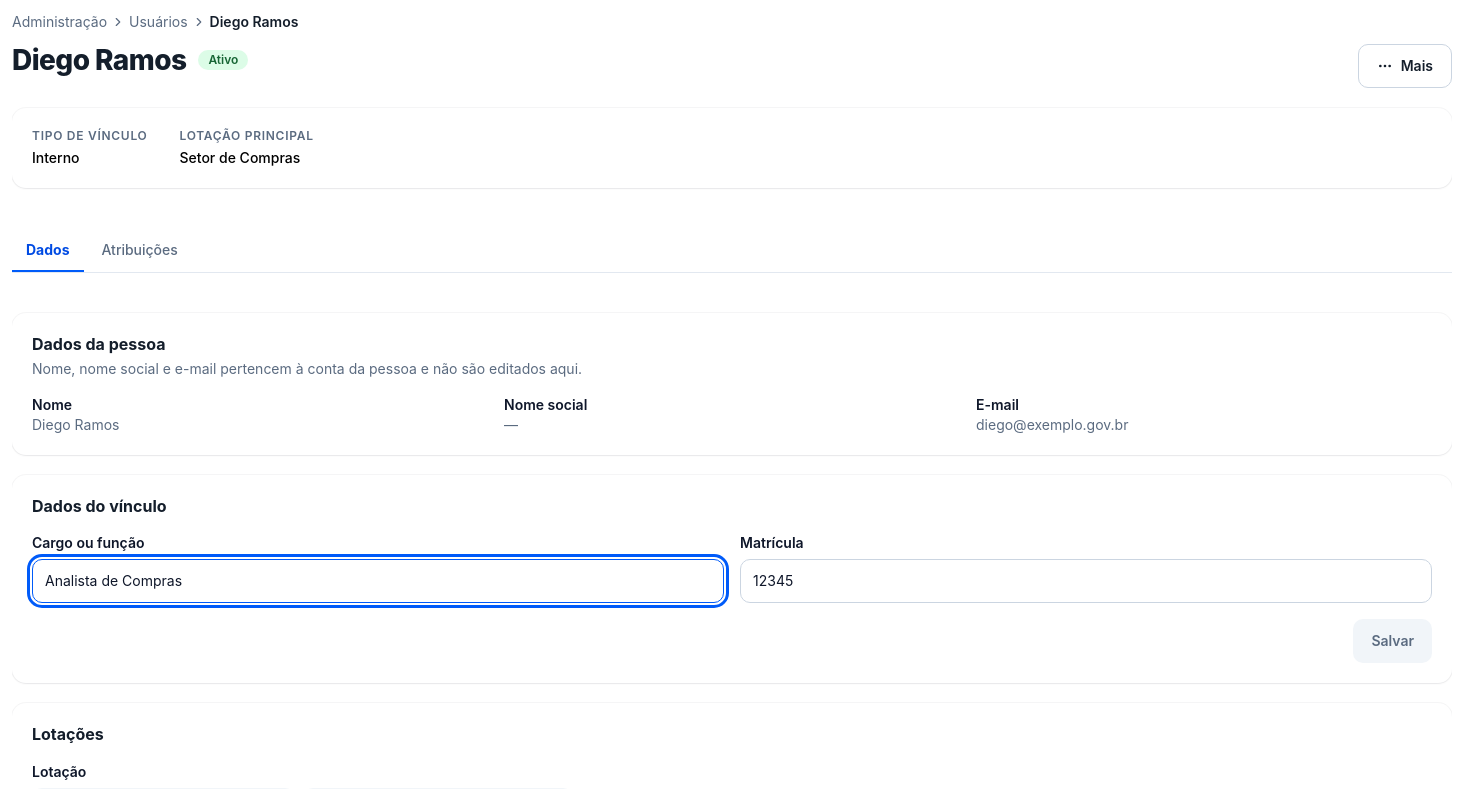
Test: SCR-029 · detalhe do usuário (US-092) › [Validação] 422 da API aparece no campo
This screenshot has width=1464, height=789.
Type "9" into the field labelled "Matrícula" at (1086, 581), box [740,559,1432,603]
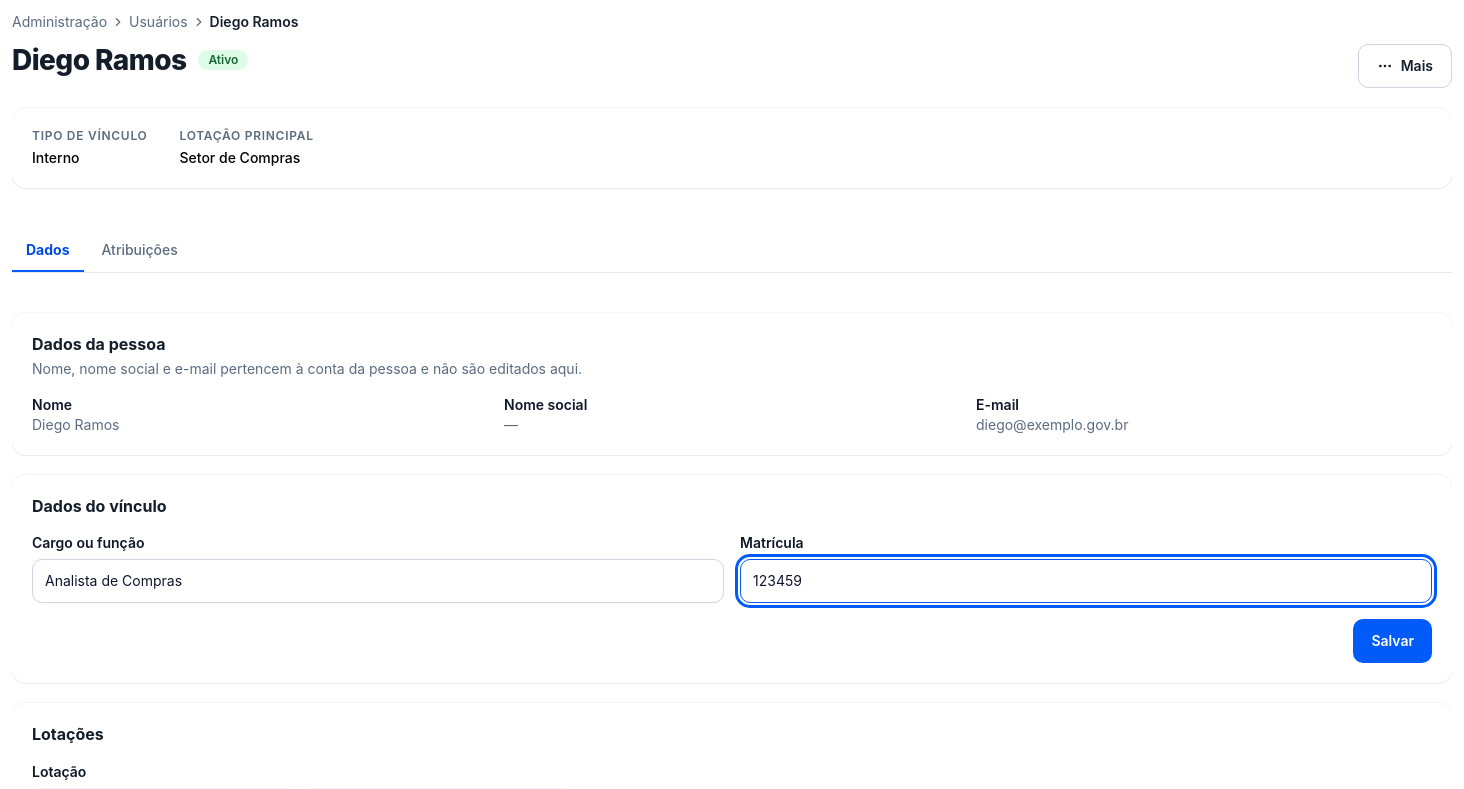
Click the button "Salvar" at (1393, 641), box [1353,619,1432,663]
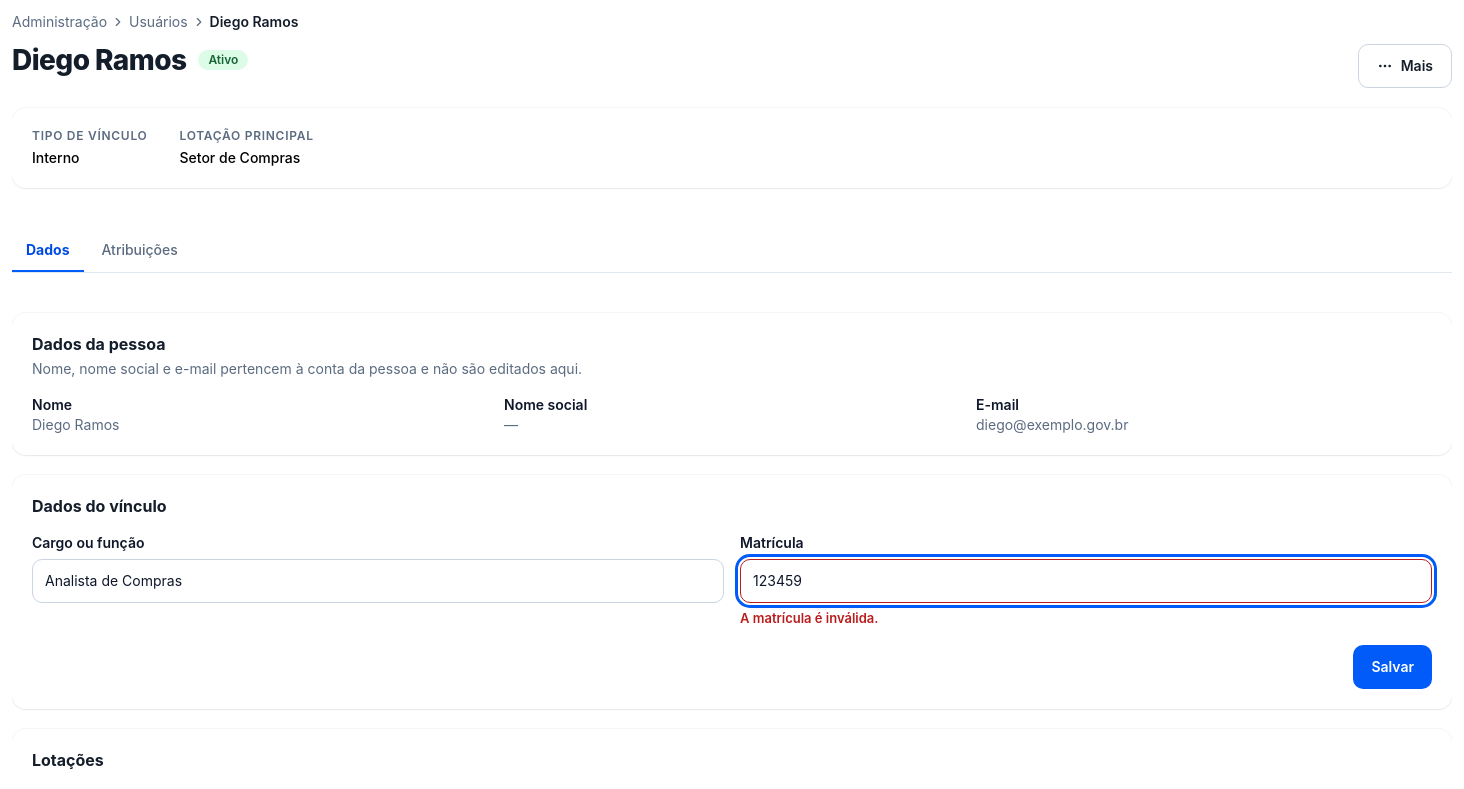
Expected: the text "A matrícula é inválida." is shown, [740,610,878,626]
